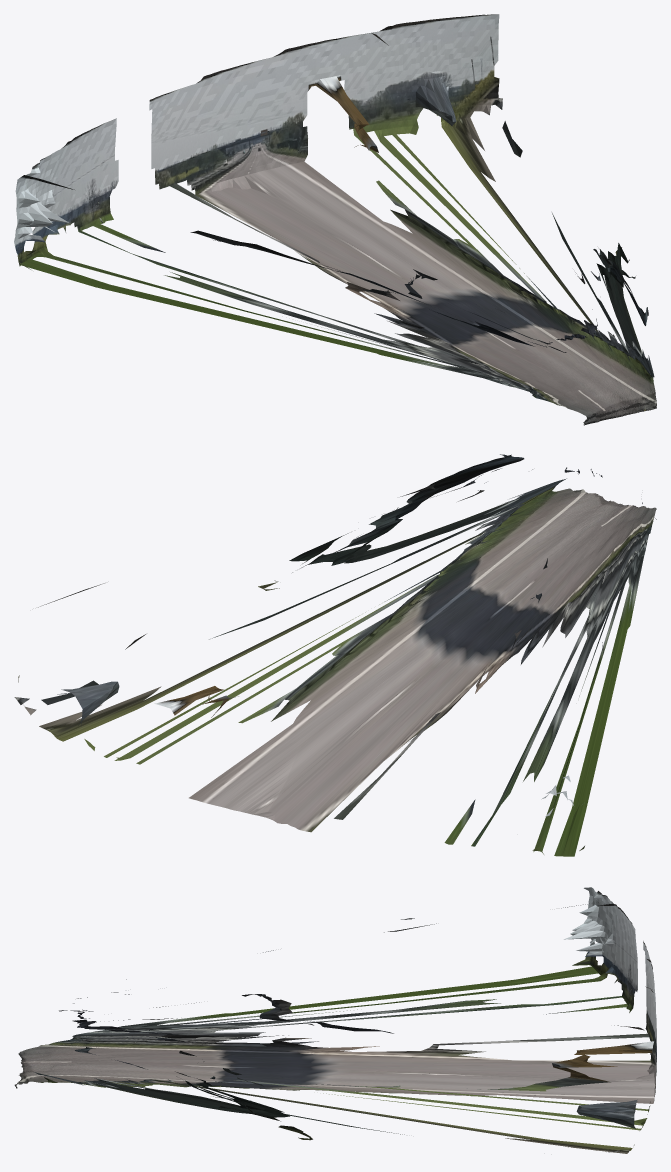
3 renders of one model, top to bottom at view 1: azimuth 30°, elevation 25°; view 2: azimuth 150°, elevation 25°; view 3: azimuth 270°, elevation 25°, orthographic. The views are drawn at different scales.
Visible parts, largest first — view 1: defaultobject; view 2: defaultobject; view 3: defaultobject.
Boxes of the visible parts, x1,y1,x2,y2 form: defaultobject: (14, 14, 656, 425); defaultobject: (14, 454, 656, 856); defaultobject: (14, 887, 656, 1153).
Bounding box in the file's own units: 36.02 × 8.9 × 44.55.
1 material, 1 textured.
